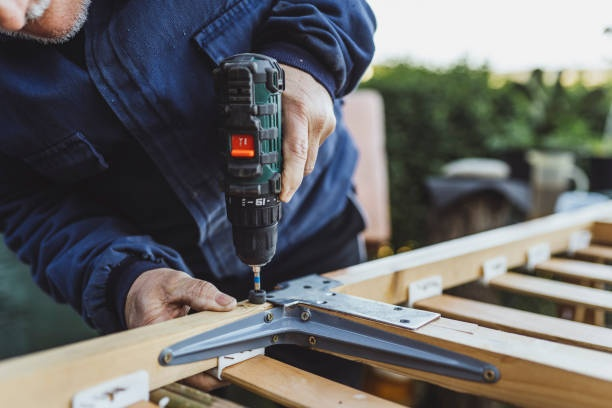driller: (211, 48, 292, 294)
